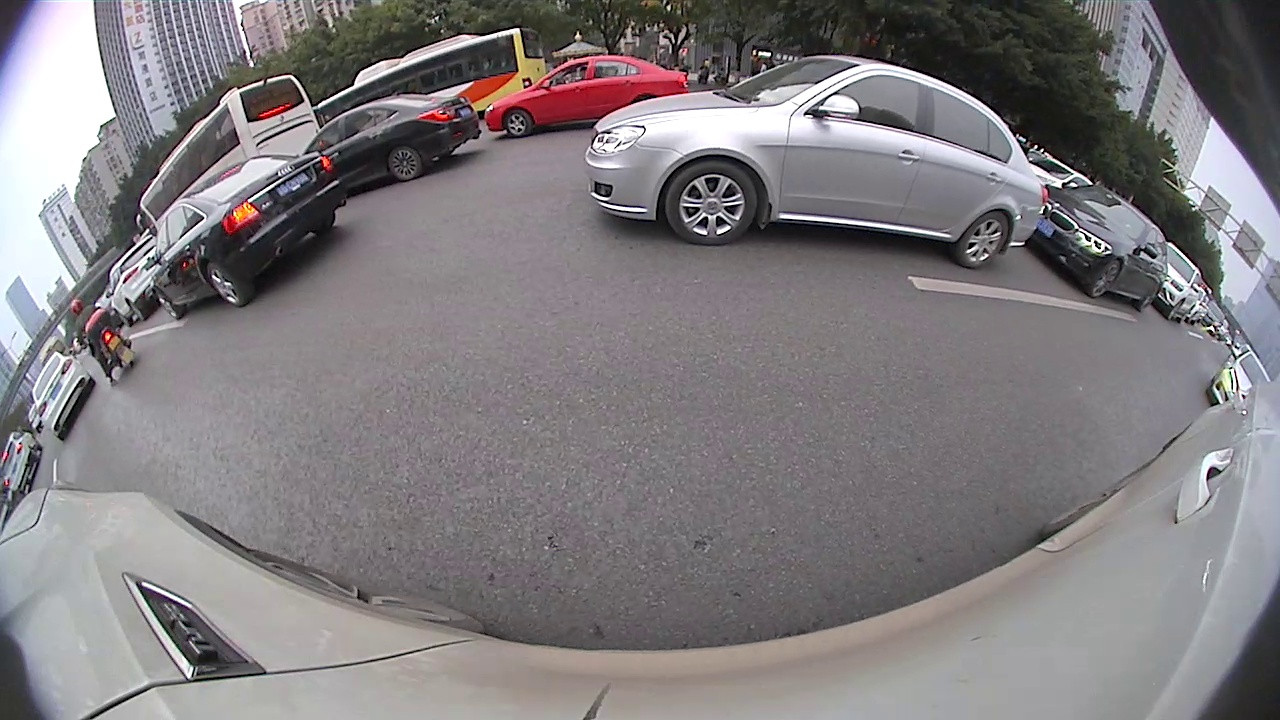bus: (135, 73, 319, 239), (309, 24, 545, 131)
car: (583, 52, 1051, 272), (149, 153, 345, 322), (299, 94, 482, 199), (485, 54, 696, 143), (1031, 181, 1169, 313), (27, 351, 98, 440), (105, 231, 165, 329), (1157, 237, 1205, 327), (1206, 347, 1272, 405), (1, 429, 44, 495)
front: (665, 162, 758, 246), (1088, 260, 1120, 299), (503, 110, 531, 139), (156, 291, 180, 320)
rear: (957, 211, 1009, 269), (205, 262, 247, 308), (388, 146, 422, 182)
rider: (67, 298, 140, 384)
